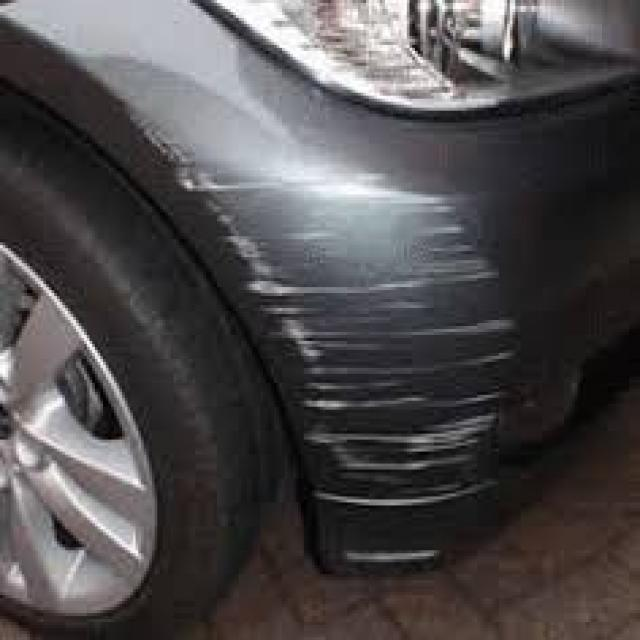dent-or-scratch: (163, 162, 511, 554)
